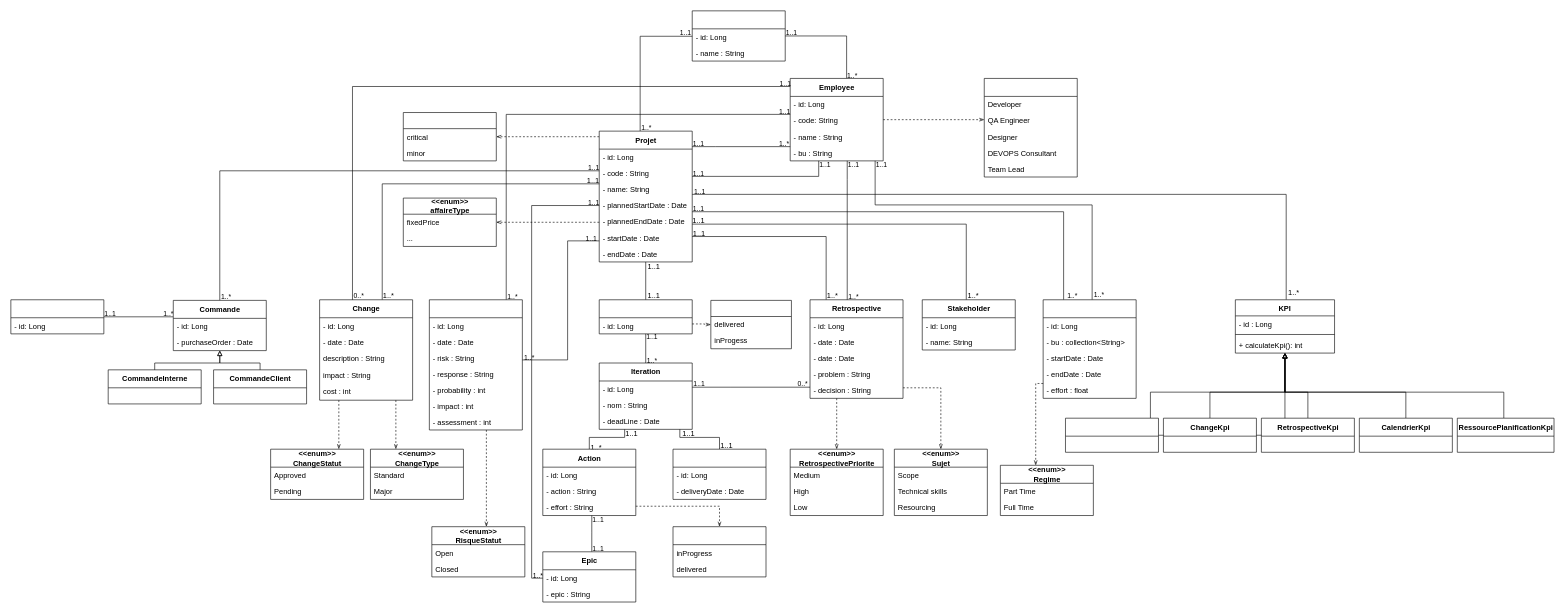
Image size: 1565x614. Some labels were removed from this diagram. The shapes that lost their labels are listed below. From the top down, each one's box as (x1, y1, x2, y2) in pixels, then its label:
(692, 10, 785, 61): Departement
(403, 112, 496, 161): <<enum>> ProjetPriorite
(984, 78, 1077, 177): <<enum>> RessourceRole
(10, 299, 104, 334): Facture
(599, 299, 692, 334): Calendrier
(710, 300, 791, 349): <<enum>> StatutCalendrier
(429, 299, 522, 430): Risque
(1043, 299, 1136, 398): Planification
(1065, 418, 1158, 452): RisqueKpi
(672, 449, 766, 499): Livraison
(672, 526, 766, 577): <<enum>> ActionStatut
